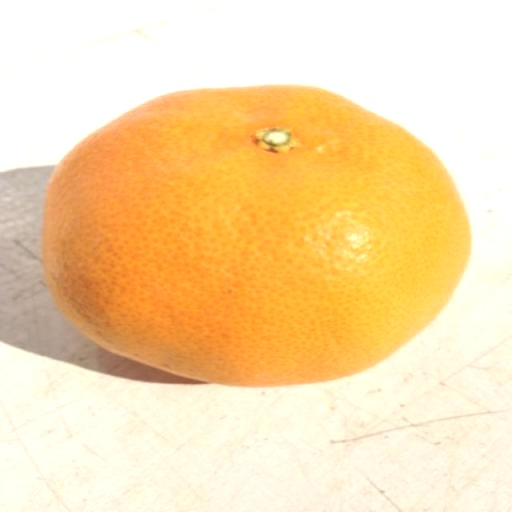fruit: (43, 86, 469, 385)
